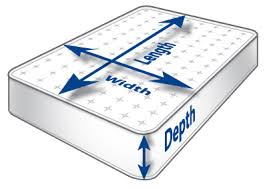bed-matress: (7, 4, 259, 181)
